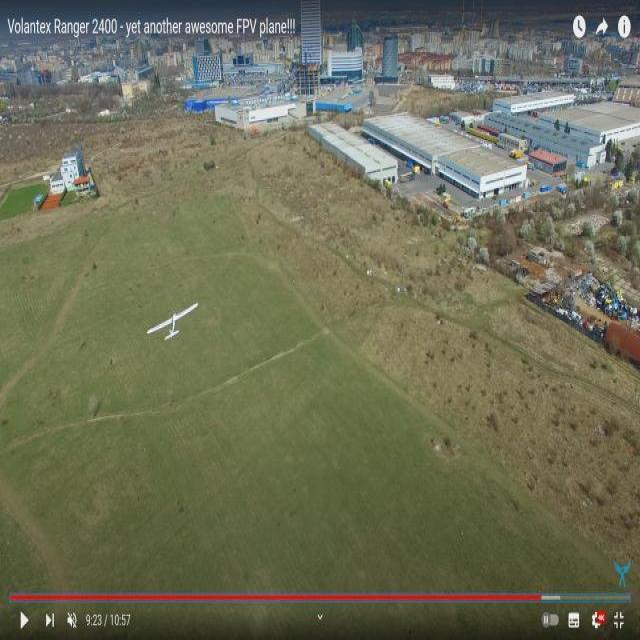iha: (147, 299, 203, 348)
